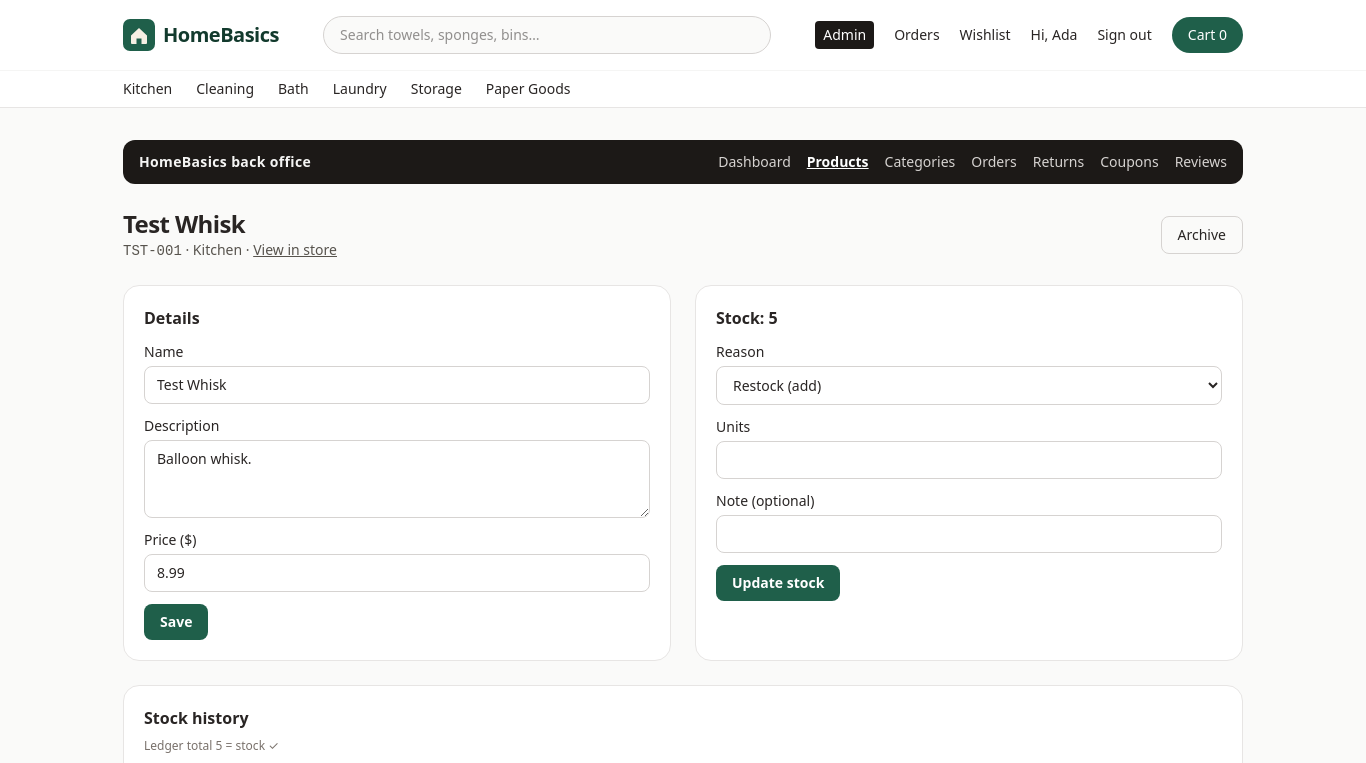
Test: admin products (ADM-01, ADM-02) › removing more than is in stock shows the refusal
The image size is (1366, 763).
Select "Damaged (remove)" in the dropdown with test id "admin-adjust-reason" at (969, 386), box [716,366,1222,405]
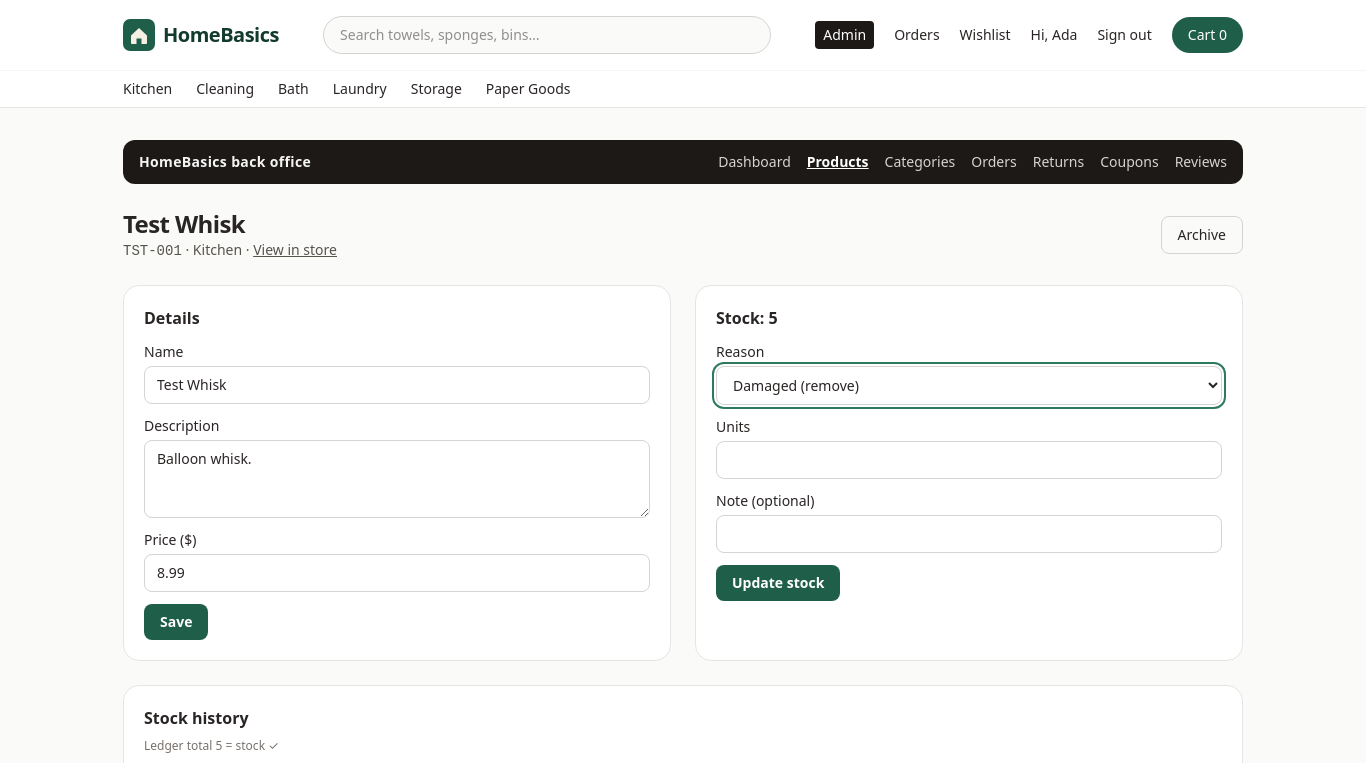
Type "9" into the number field with test id "admin-adjust-amount" at (969, 460), box [716,441,1222,479]
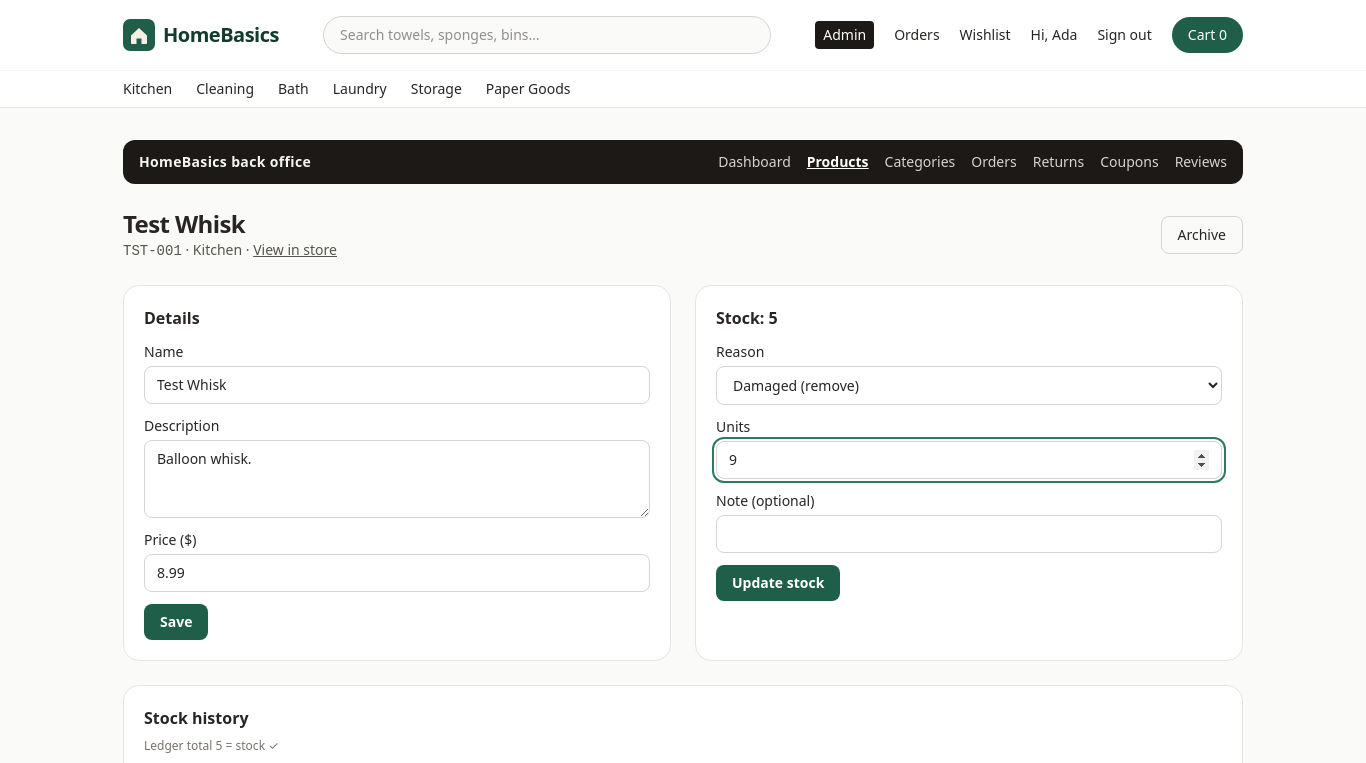
Click the button with test id "admin-adjust-submit" at (778, 583), box [716,565,840,601]
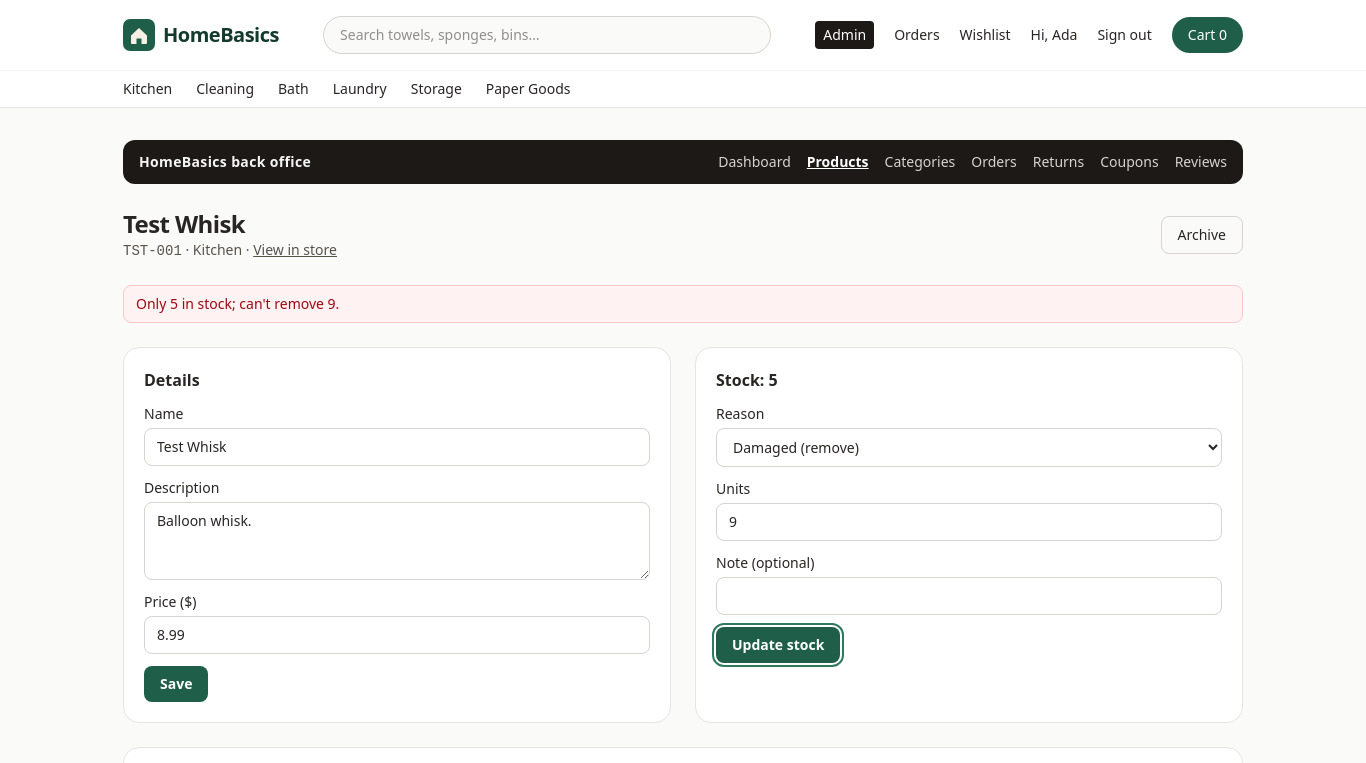
Expected: the message with test id "admin-notice" reads "Only 5 in stock; can't remove 9.", [136,294,339,313]
